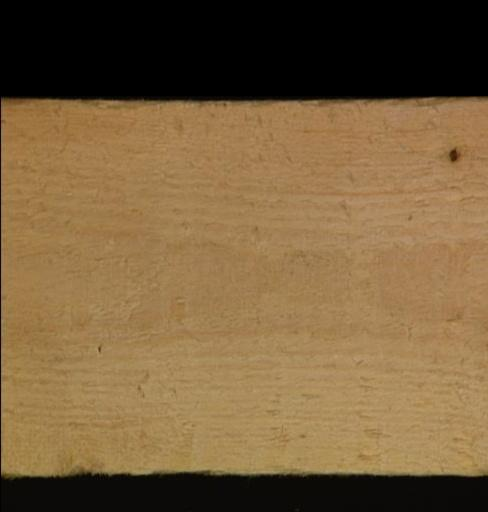small_knot: (443, 142, 461, 167)
wave: (74, 99, 182, 116)
